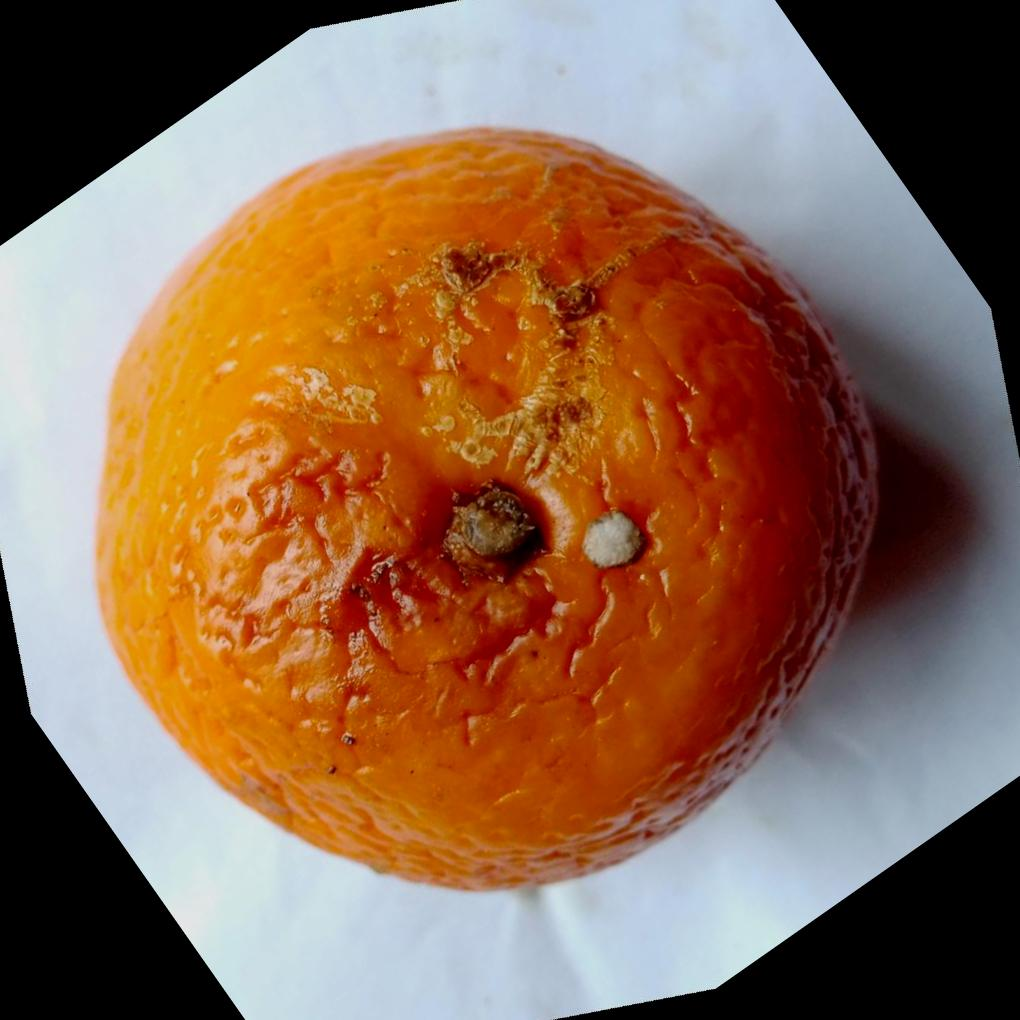FreshOrange: (88, 120, 881, 893)
